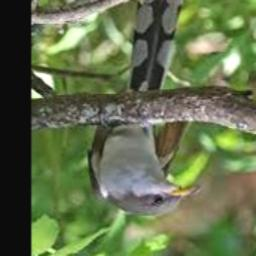Cuckoo: (87, 0, 201, 217)
